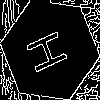H: (25, 25, 76, 75)
